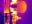Hotspot: (10, 7, 17, 16), (4, 9, 10, 14), (12, 0, 16, 5)
